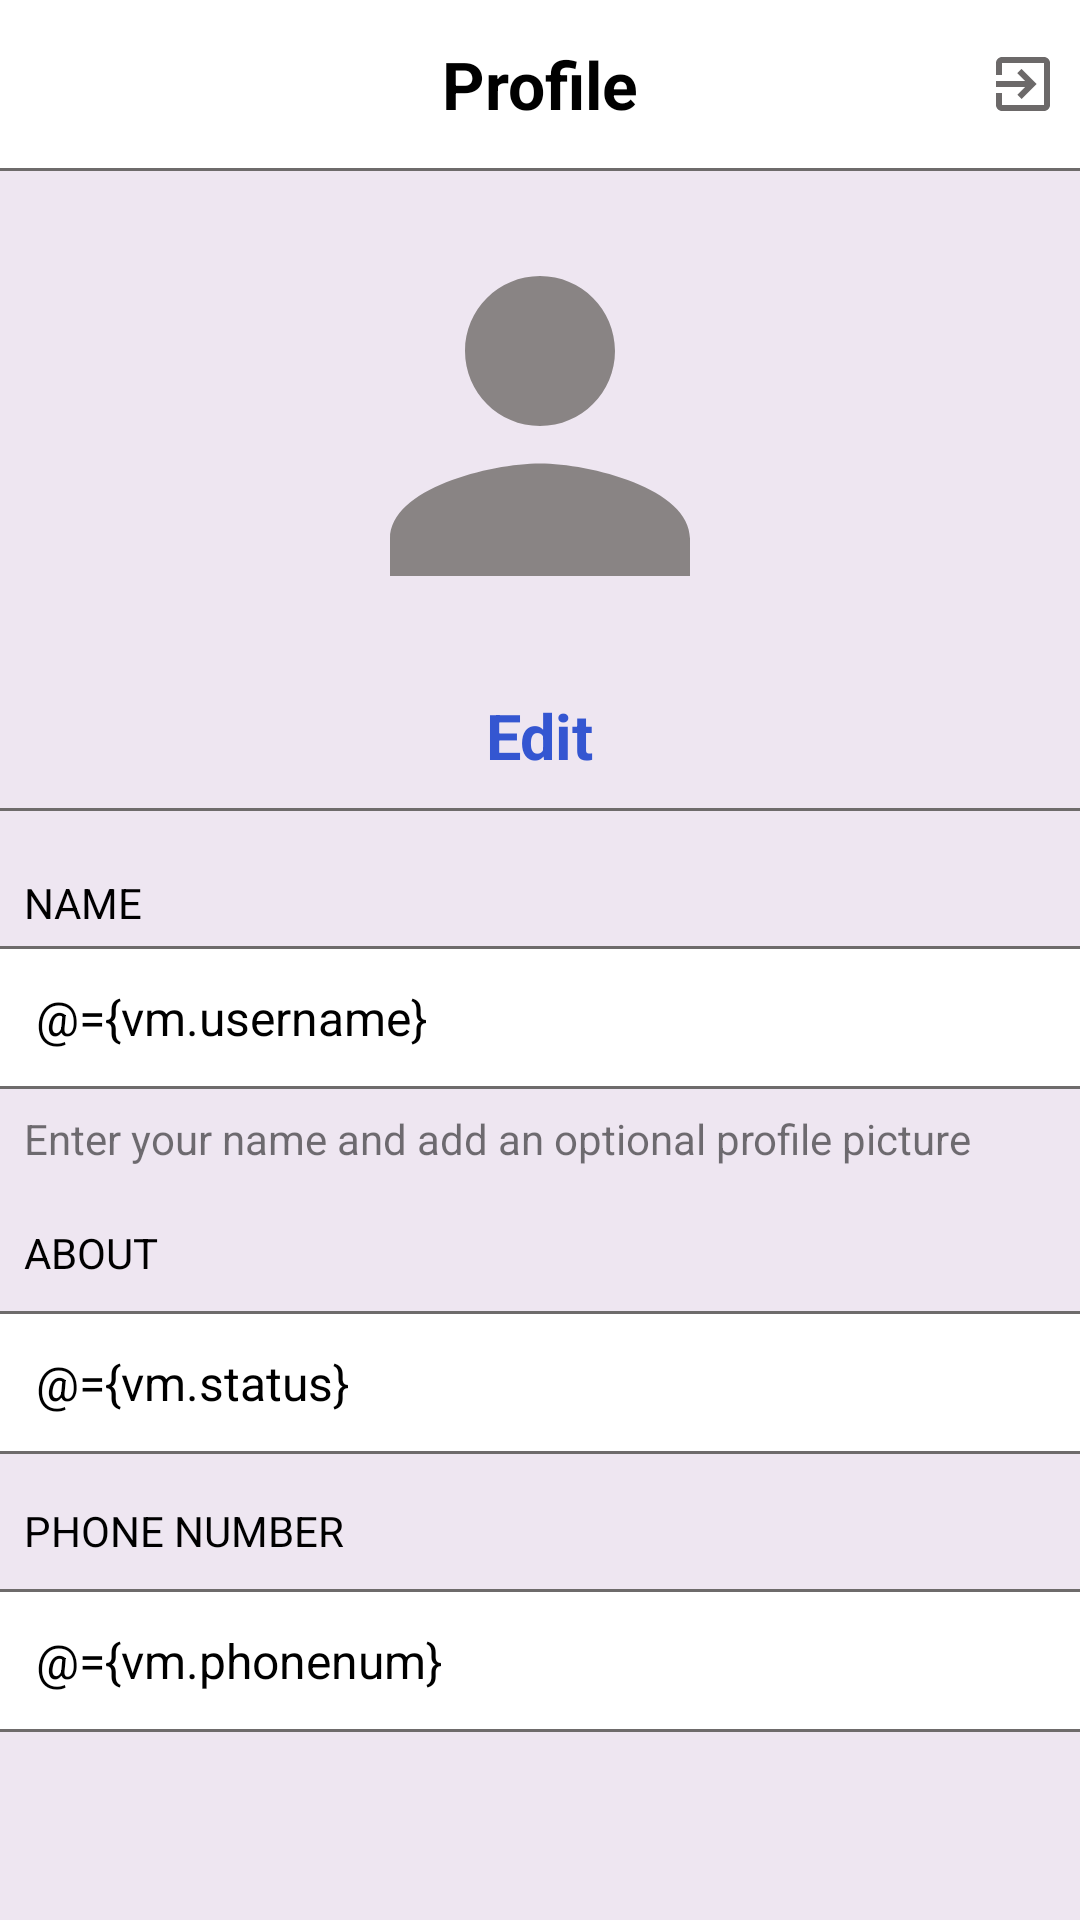

Icon bounding boxes for this 1080px x 1920px phone screenshot, format bbox=(x1, y1, x2, y2):
exit to app: bbox=(996, 57, 1050, 111)
person: bbox=(390, 276, 690, 576)
